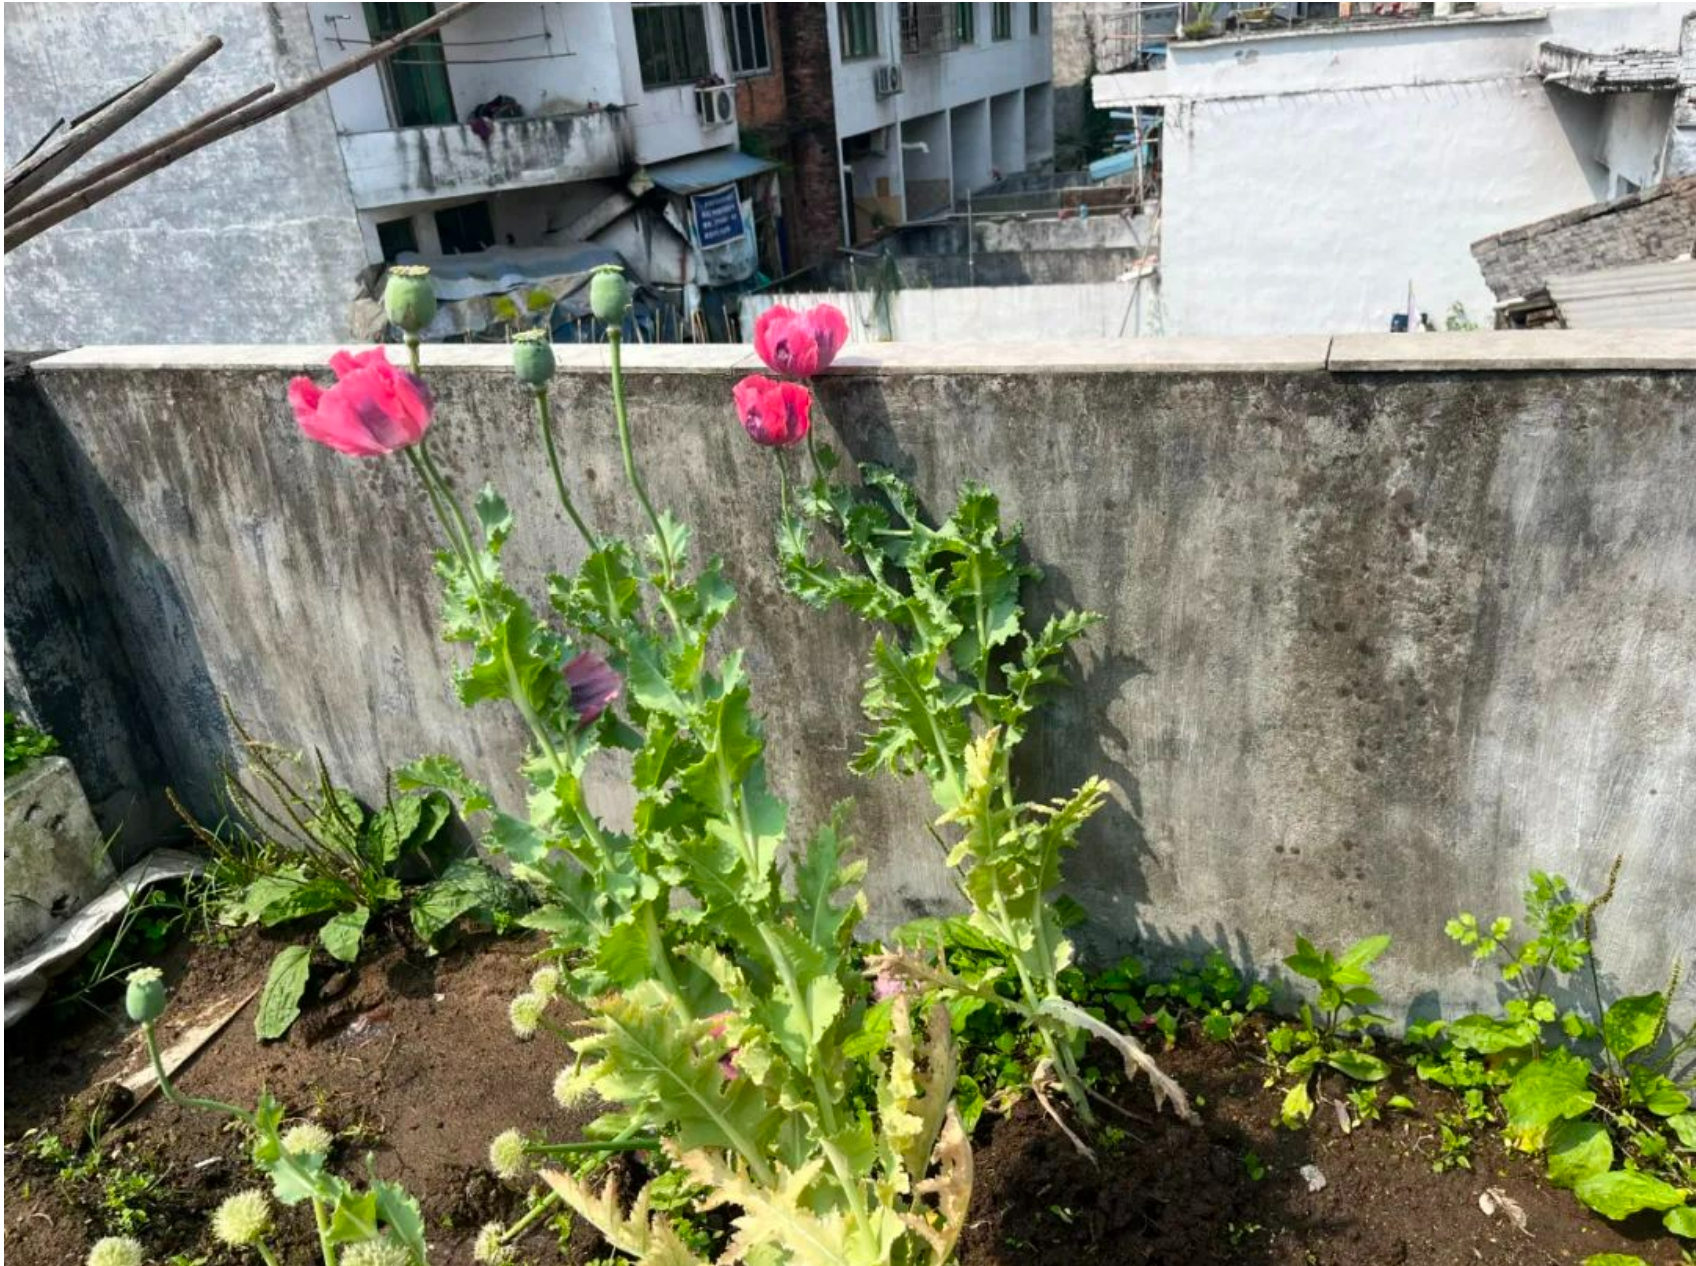Poppy: (302, 231, 1144, 1227)
